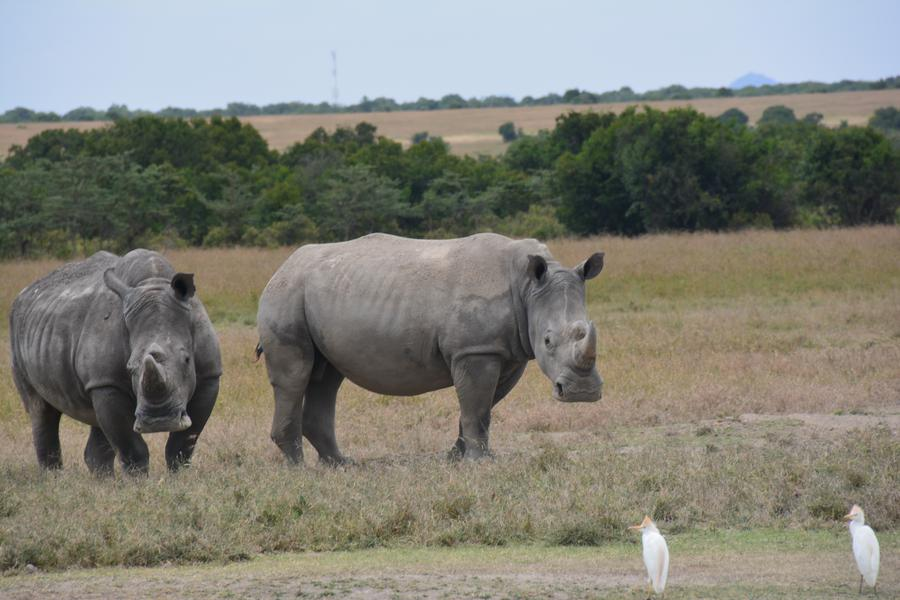rhino: (253, 227, 604, 472), (5, 247, 203, 466)
